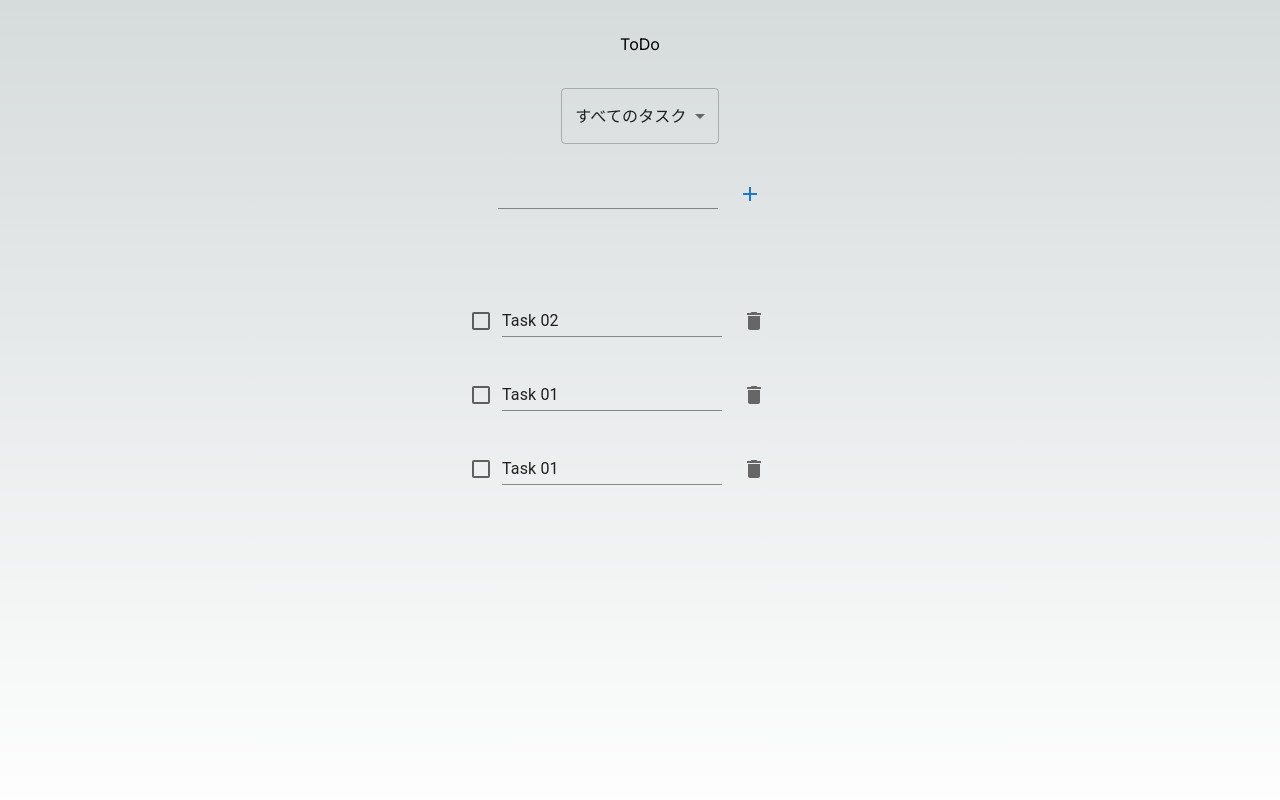
Scenario: ToDo › タスクの登録 › 登録されたタスクの内容を変更できること
In the 1st field: (608, 193) [498,177,718,209], type "Task 01"
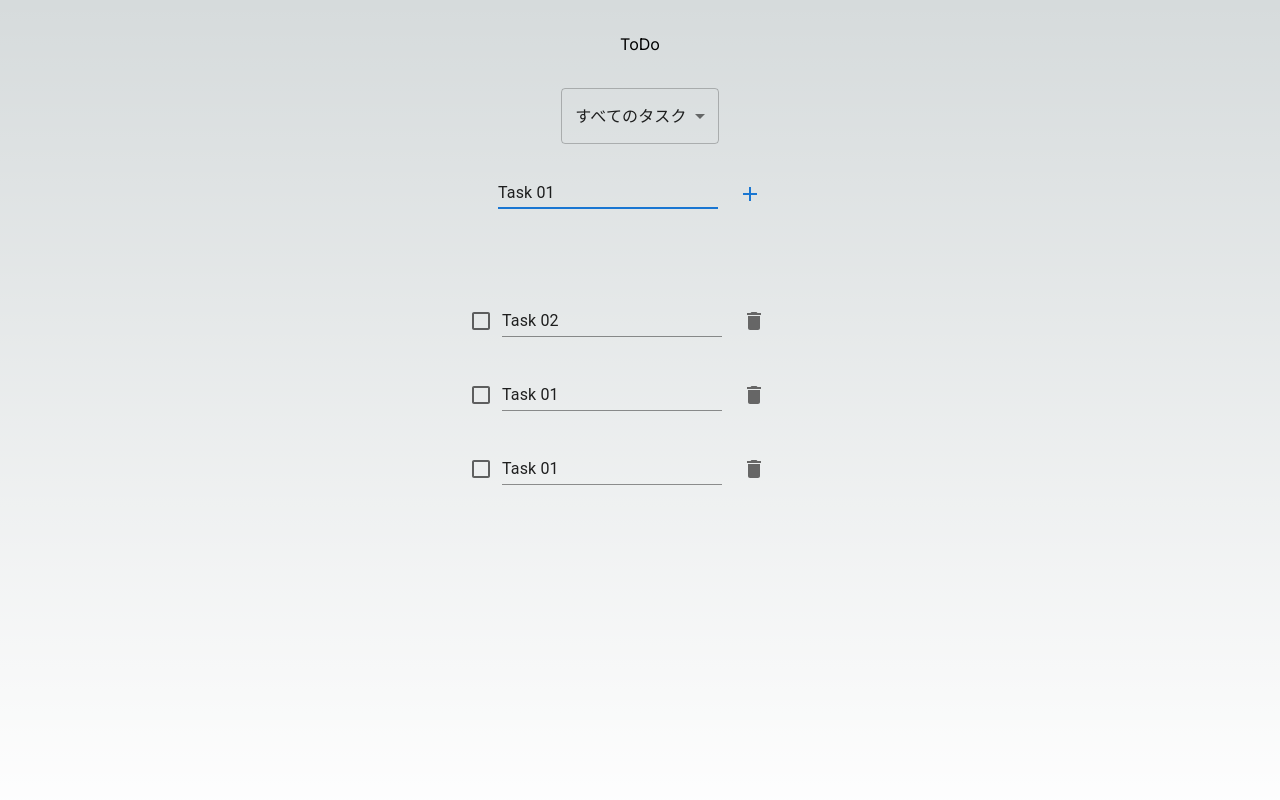
Click the 1st button: click(750, 194) [718,176,782,212]
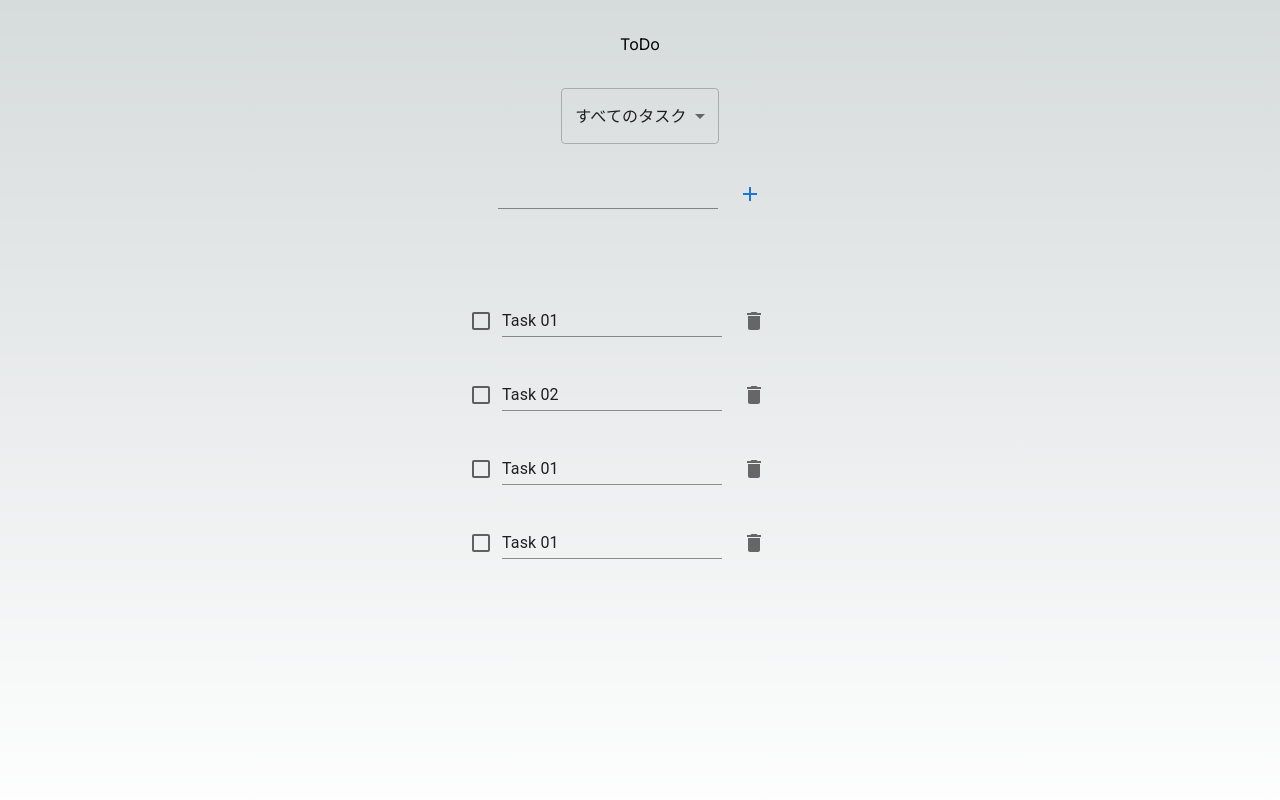
Note: 半角スペース込み
In the 2nd field: (612, 321) [502,305,722,337], type " modified"
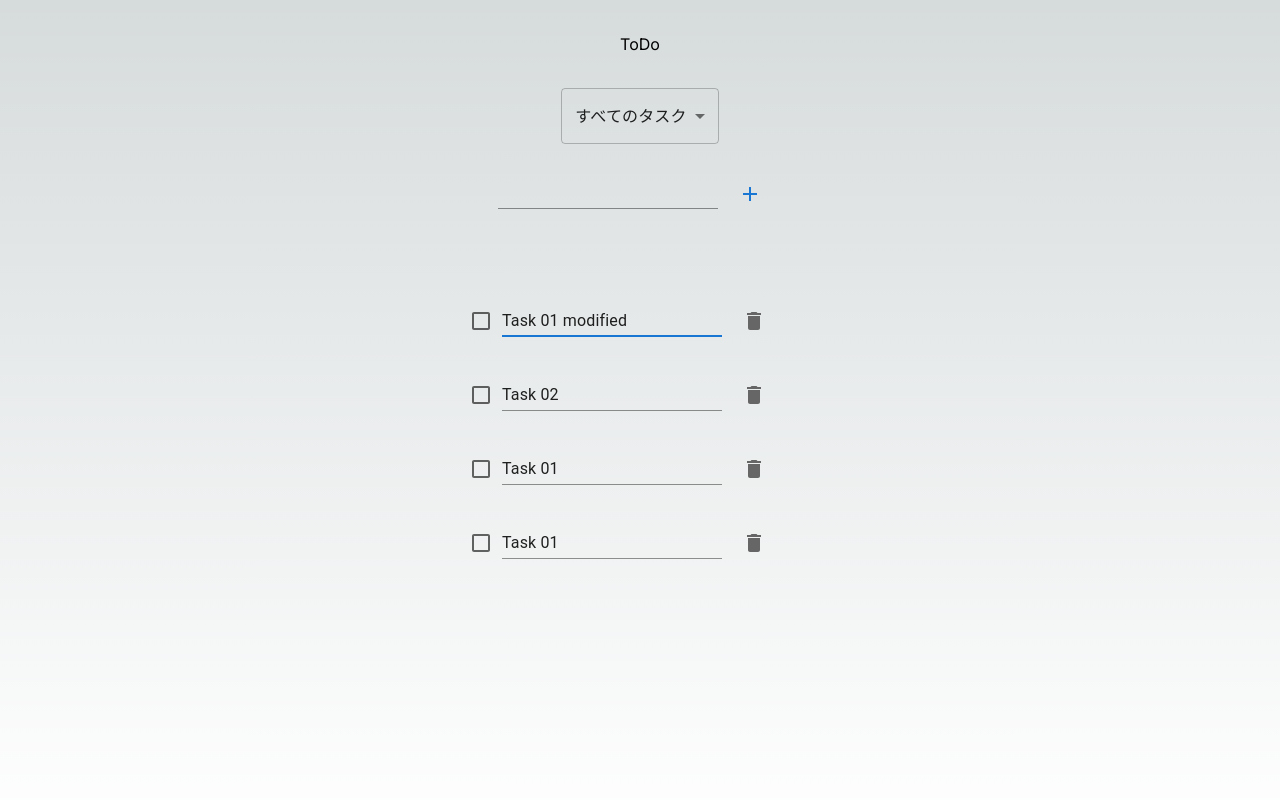
Now the 2nd field showing "Task 01 modified" is shown, box [502,305,722,337]
